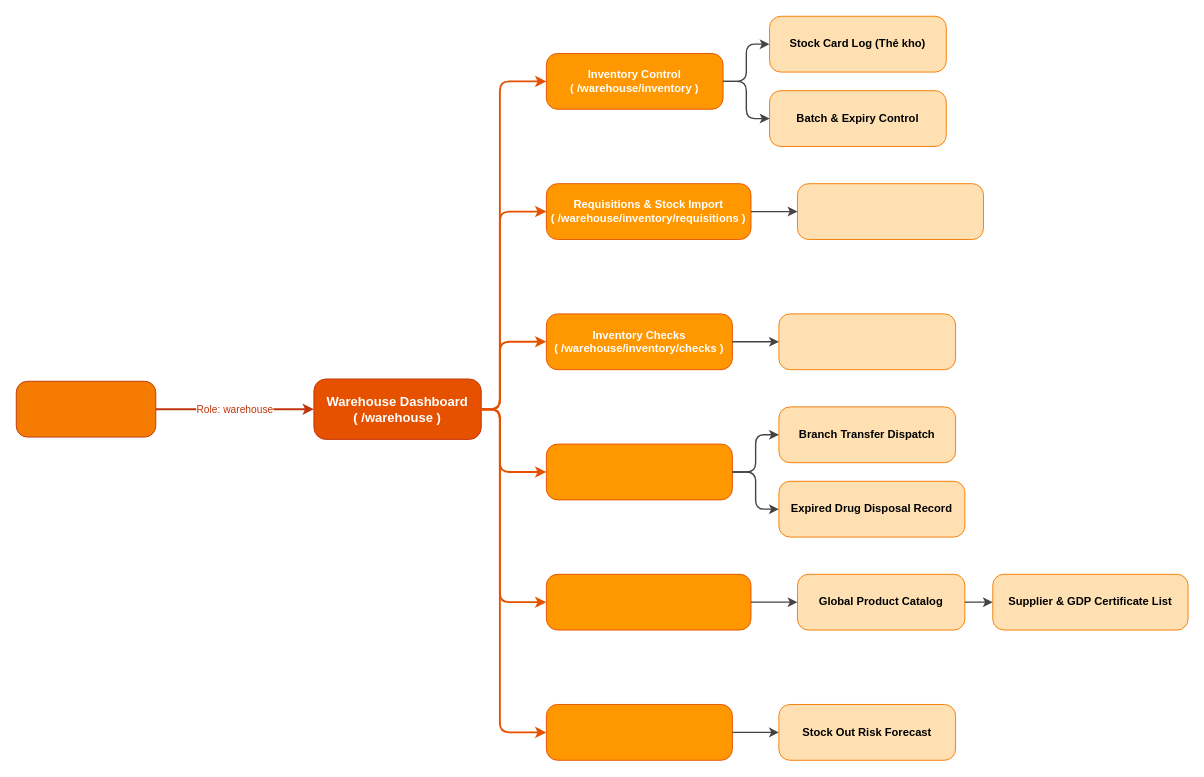
The diagram is 1204 pixels wide and 777 high, and some of its shapes have lost their labels. Each missing label, with the centre of its shape:
"AI Forecast & Analytics ( /warehouse/ai-forecast )" belongs at (x=638, y=732).
"Goods Receipt Note (GRN)" belongs at (x=890, y=211).
"Master Data Catalog ( /warehouse/master-data/products )" belongs at (x=648, y=601).
"Stock Count & Adjustment" belongs at (x=867, y=341).
"Stock Export & Disposal ( /warehouse/inventory/export )" belongs at (x=638, y=471).
"User Login ( /auth/login )" belongs at (x=85, y=408).
